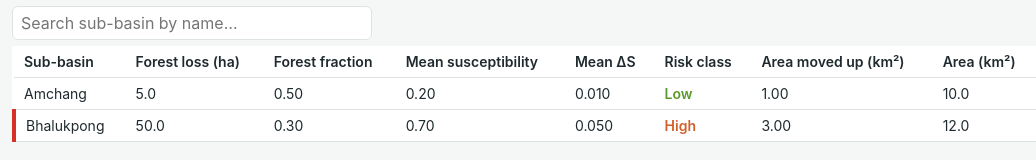
Test: SubbasinTable (FR-V2, NFR-6) › filters by name
Type "amch" into the field with placeholder "Search sub-basin by name…".
click(192, 23); type("amch")  # box [12, 6, 372, 40]
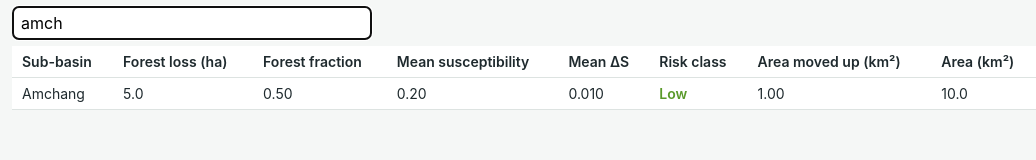
Result: the elements with test id "name-cell" read "Amchang", in this order at [22, 85, 85, 102]
